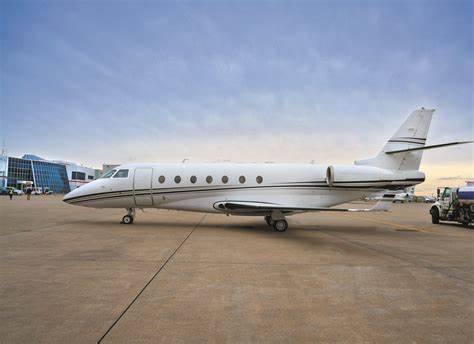Aeronef_commercial: (57, 103, 474, 244)
